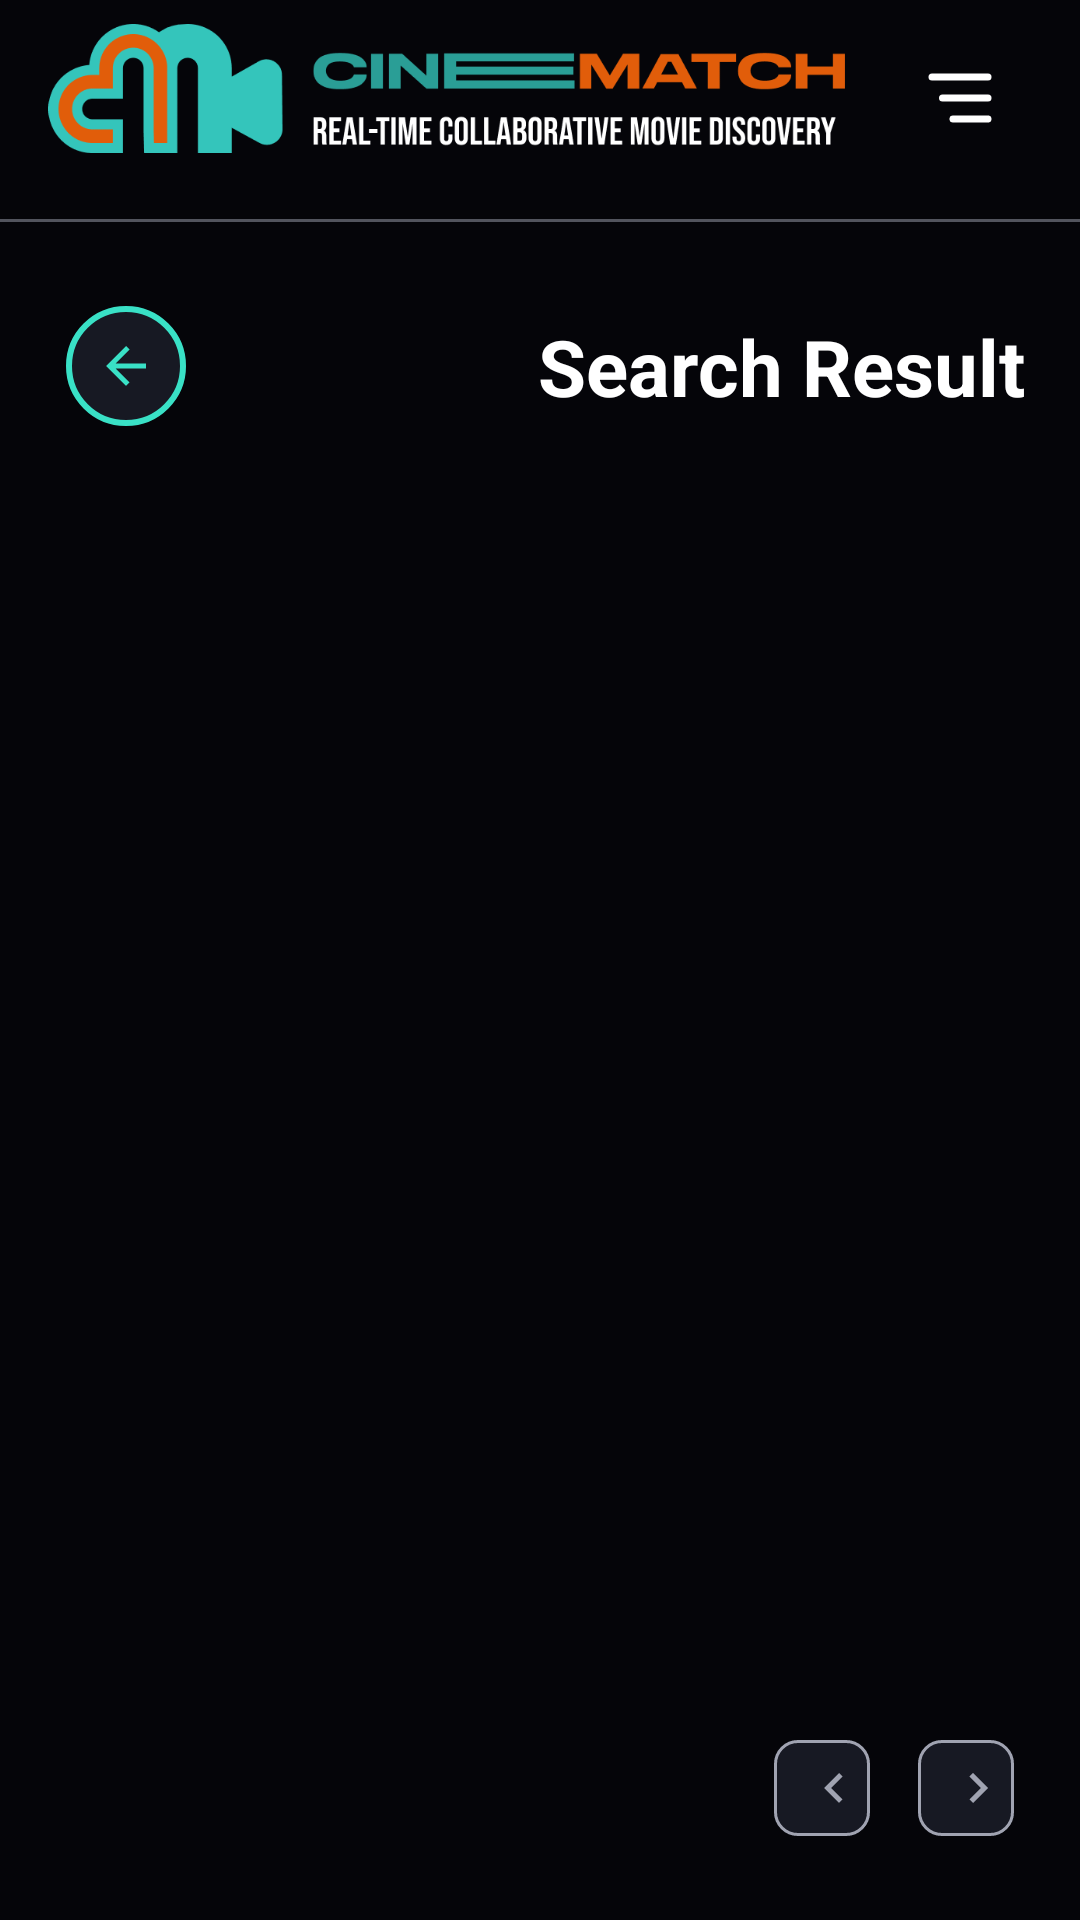

Screen size 1080×1920. Icon name, then its center in pixels as point (x, y):
arrow back: point (126, 366)
pagination chevron left: point (822, 1788)
pagination chevron right: point (966, 1788)
